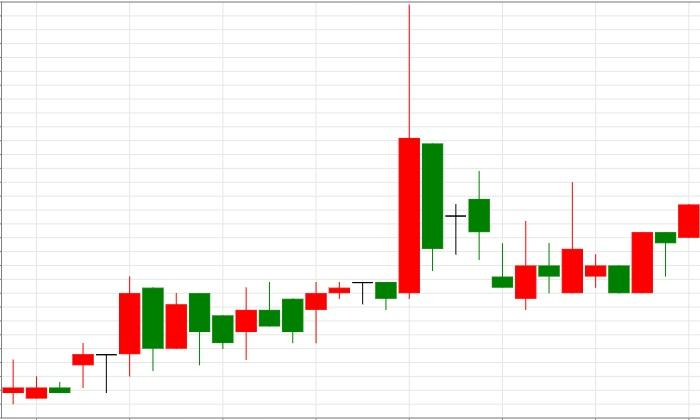bullish_engulfing_rise: (397, 4, 538, 309)
